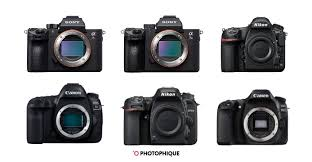camera: (26, 83, 103, 143), (123, 86, 196, 144), (122, 19, 199, 73), (217, 89, 287, 143), (27, 23, 102, 71), (220, 17, 285, 72)
